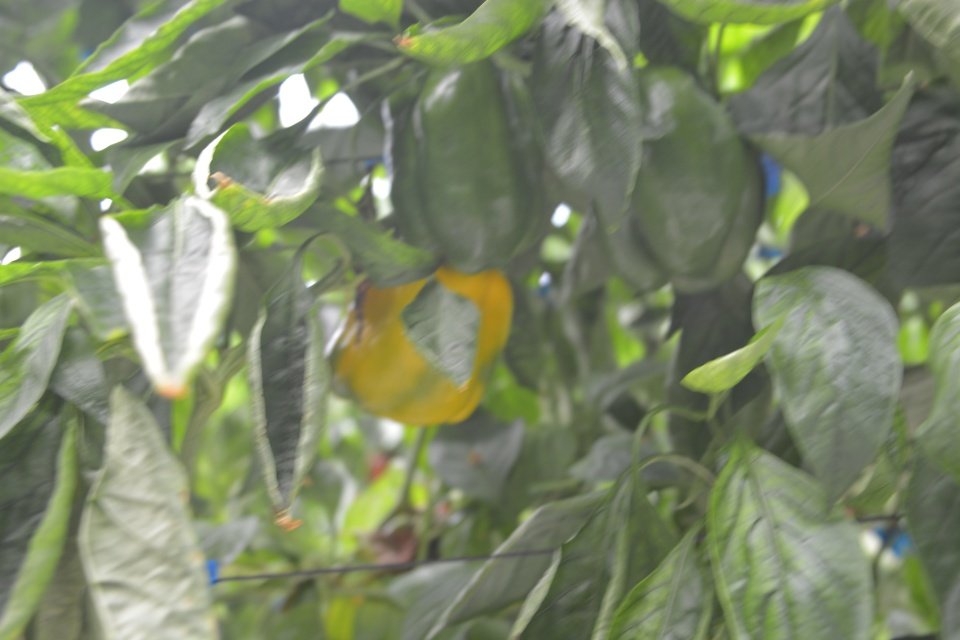fruit: (588, 69, 767, 298), (388, 58, 563, 275), (322, 264, 515, 428)
